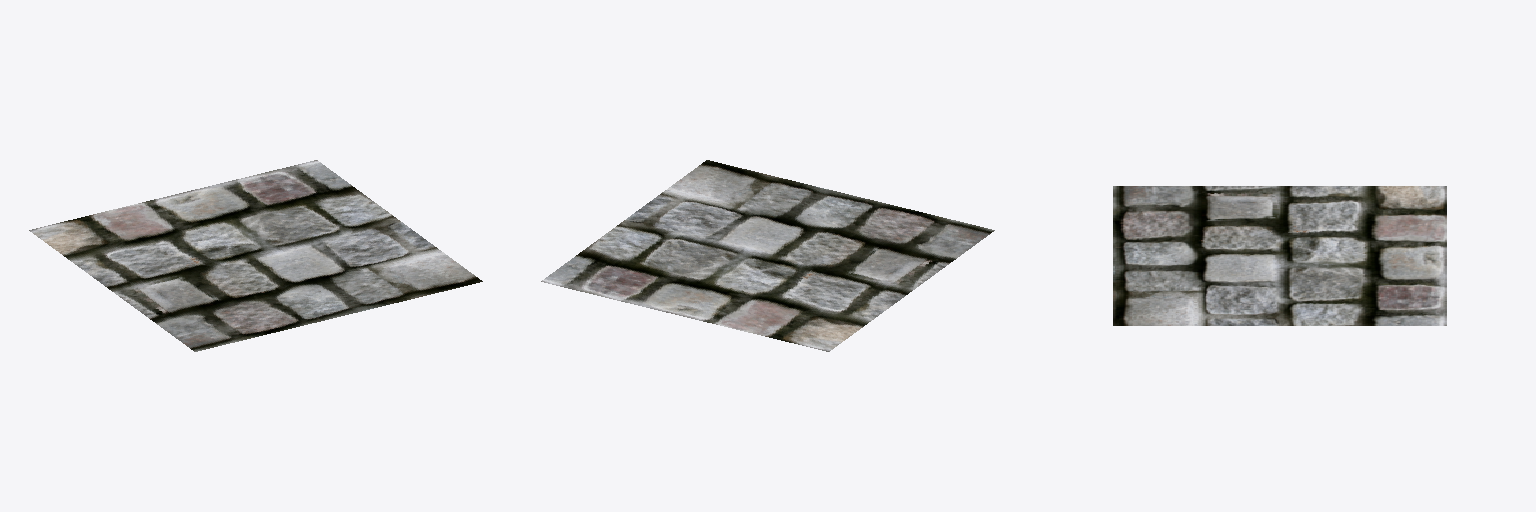
3 renders of one model, left to right at view 1: azimuth 30°, elevation 25°; view 2: azimuth 150°, elevation 25°; view 3: azimuth 270°, elevation 25°, orthographic.
Parts seen in each view (by area): view 1: Plane; view 2: Plane; view 3: Plane.
Boxes of the visible parts, x1=… form: Plane: x1=29, y1=160, x2=482, y2=351; Plane: x1=541, y1=160, x2=994, y2=351; Plane: x1=1113, y1=186, x2=1446, y2=325.
Bounding box in the file's own units: 4 × 0 × 4.
1 materials, 1 textured.